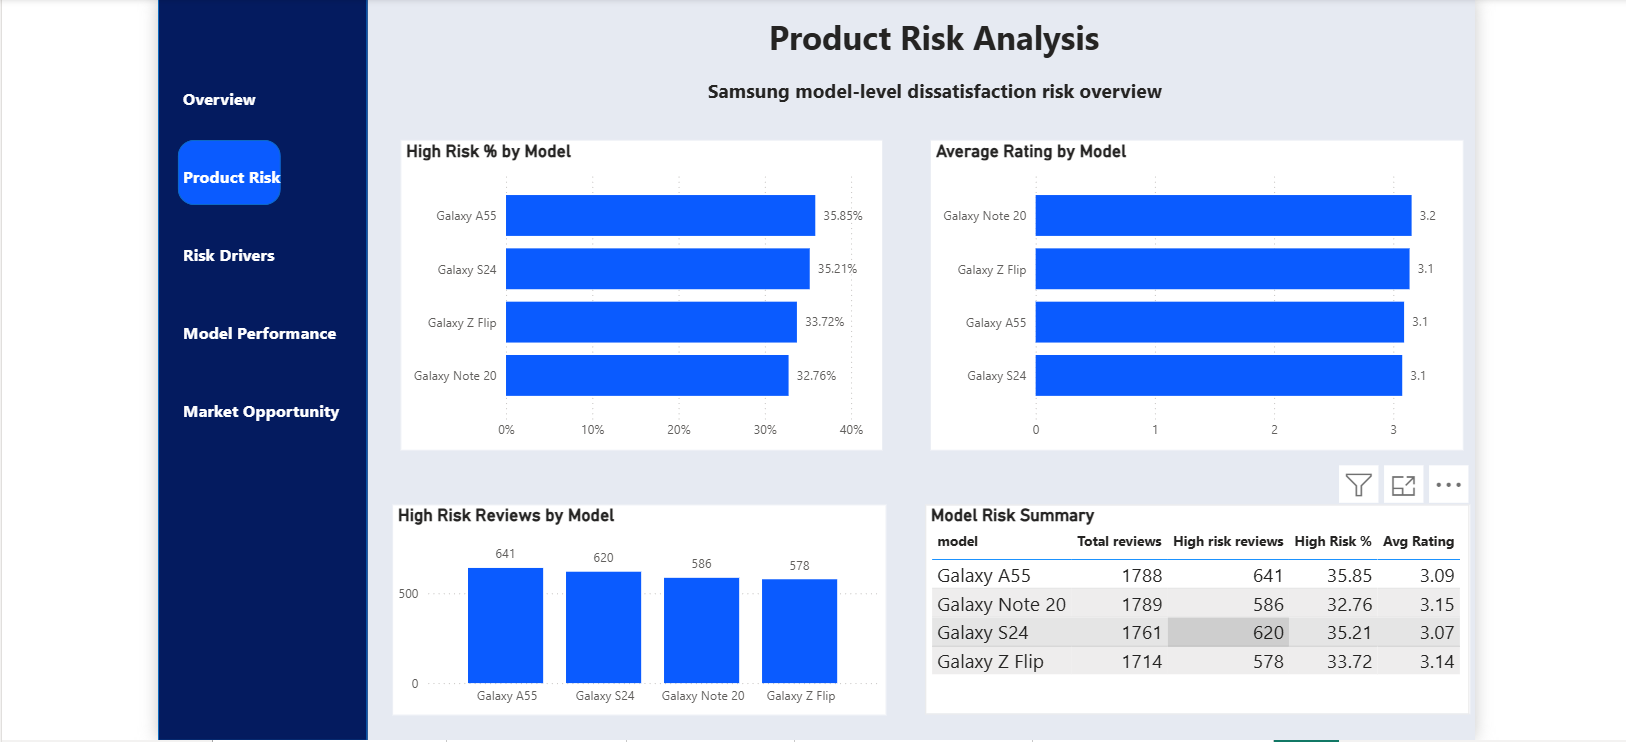

The dashboard page shown, as its layout file describes it:
{"tool":"powerbi","page":{"name":"Product Risk","canvas":[1280,720],"ordinal":1},"visuals":[{"type":"shape","box":[1.7,75,100,63.3],"z":1000},{"type":"textbox","box":[588.3,11.7,636.7,63.3],"z":2000},{"type":"textbox","box":[528.3,71.7,496.7,66.7],"z":3000},{"type":"clusteredBarChart","title":"High Risk % by Model","fields":{"Category":["samsung_model_risk_summary.model"],"Y":["samsung_reviews_with_risk.High Risk Percentage"]},"box":[235,138.3,468.3,301.7],"z":4000},{"type":"clusteredColumnChart","title":"High Risk Reviews by Model","fields":{"Category":["samsung_model_risk_summary.model"],"Y":["Sum(samsung_model_risk_summary.high_risk_reviews)"]},"box":[228.3,491.7,480,205],"z":5000},{"type":"clusteredBarChart","title":"Average Rating by Model","fields":{"Category":["samsung_model_risk_summary.model"],"Y":["Sum(samsung_model_risk_summary.average_rating)"]},"box":[750,138.3,518.3,301.7],"z":6000},{"type":"tableEx","title":"Model Risk Summary","fields":{"Values":["samsung_model_risk_summary.model","Sum(samsung_model_risk_summary.total_reviews)","Sum(samsung_model_risk_summary.high_risk_reviews)","Sum(samsung_model_risk_summary.high_risk_percentage)","Sum(samsung_model_risk_summary.average_rating)"]},"box":[745.4,492.8,529.7,203.4],"z":7000},{"type":"shape","box":[0,0,203.3,721.7],"z":8000},{"type":"shape","box":[20,138.3,100,63.3],"z":8500},{"type":"textbox","box":[20,63.3,220,418.3],"z":9000}]}

Visuals, with their boxes on the page's 1280x720 design canvas (x1, y1, x2, y2). These are canvas units, not pixel positions in the 1626x742 screenshot, which may show the page scaled, cropped or inside an application window:
shape: [left=2, top=75, right=102, bottom=138]
textbox: [left=588, top=12, right=1225, bottom=75]
textbox: [left=528, top=72, right=1025, bottom=138]
"High Risk % by Model" clusteredBarChart: [left=235, top=138, right=703, bottom=440]
"High Risk Reviews by Model" clusteredColumnChart: [left=228, top=492, right=708, bottom=697]
"Average Rating by Model" clusteredBarChart: [left=750, top=138, right=1268, bottom=440]
"Model Risk Summary" tableEx: [left=745, top=493, right=1275, bottom=696]
shape: [left=0, top=0, right=203, bottom=722]
shape: [left=20, top=138, right=120, bottom=202]
textbox: [left=20, top=63, right=240, bottom=482]
